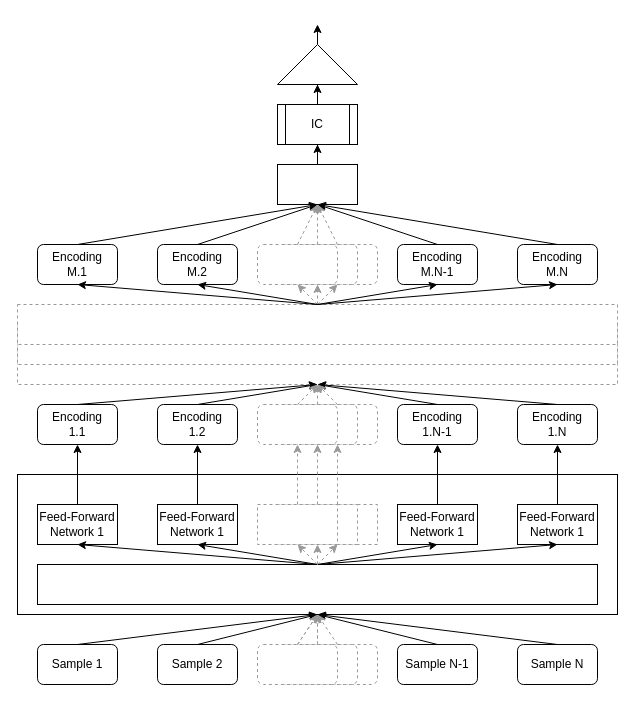
This 635x702 diagram has some shape labels left out. Each missing label, with the box of its shape:
Attention Layer 1: (16, 474, 618, 614)
Attention Layers 2—M: (16, 304, 618, 344)
Fully Connected: (276, 164, 358, 204)
Multi-Head Attention: (36, 564, 598, 604)
Output: (276, 44, 358, 84)
